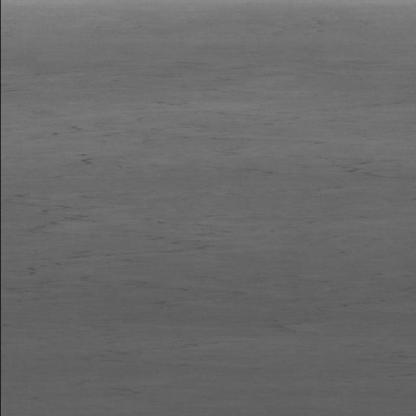silk_spot: (17, 111, 376, 316)
